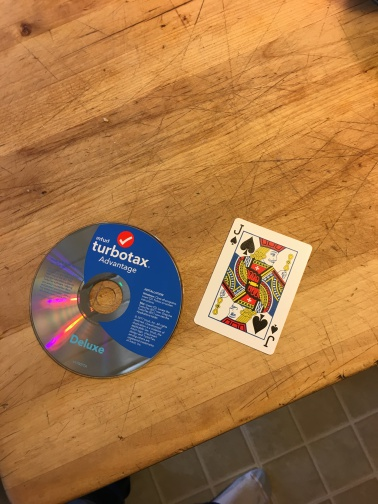jack: (193, 217, 314, 355)
